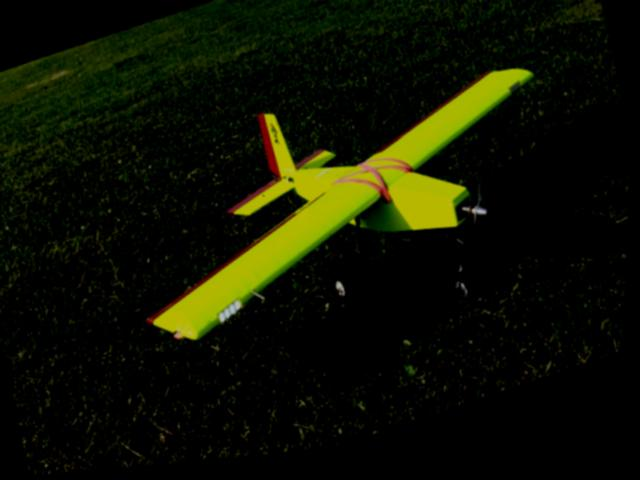plane: (105, 32, 587, 409)
